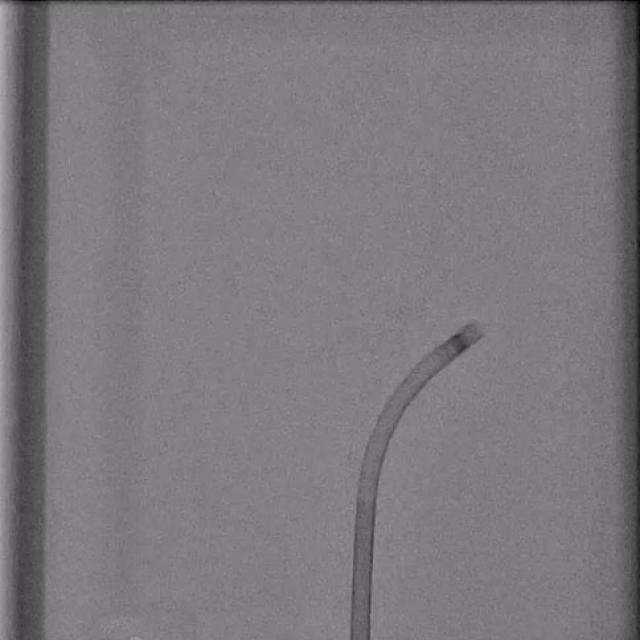bend: (356, 496, 375, 509)
entry: (351, 636, 370, 640)
marker: (447, 333, 470, 354)
tip: (467, 322, 484, 338)
